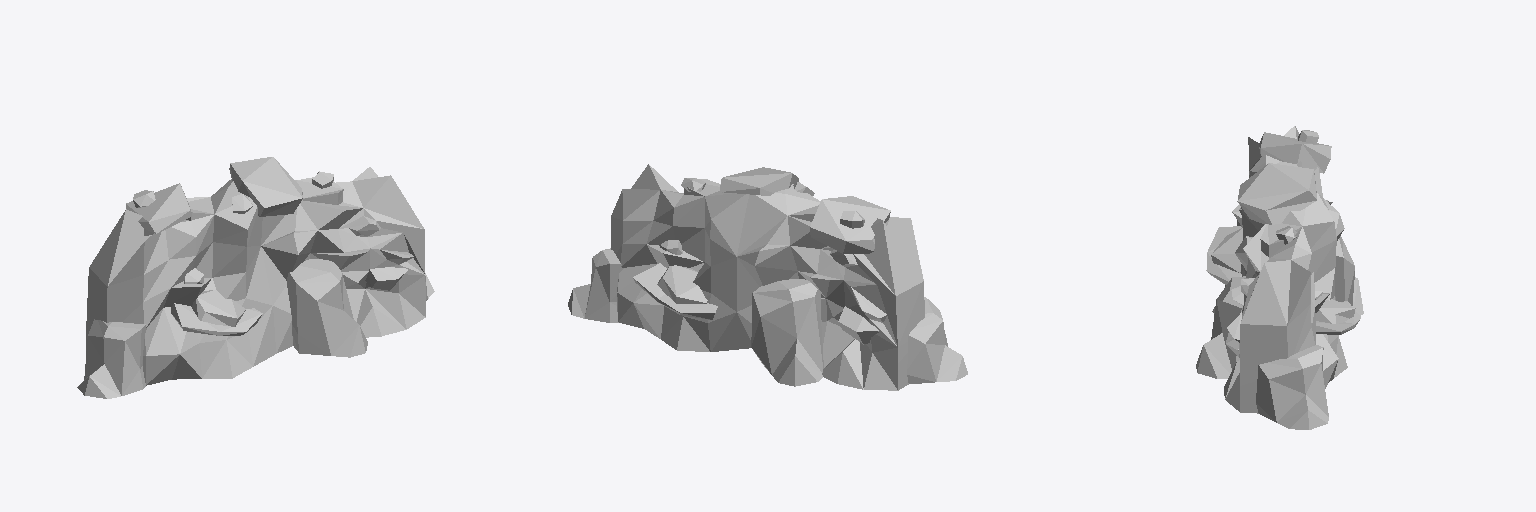
File: rubble_large.obj
3 renders of one model, left to right at view 1: azimuth 30°, elevation 25°; view 2: azimuth 150°, elevation 25°; view 3: azimuth 270°, elevation 25°, orthographic.
Parts seen in each view (by area): view 1: rubble_large; view 2: rubble_large; view 3: rubble_large.
Part boxes in pixels (x1,y1,x2,y2): rubble_large: (77, 157, 434, 398); rubble_large: (568, 164, 967, 390); rubble_large: (1196, 126, 1363, 429).
Bounding box in the file's own units: 8.13 × 3.5 × 3.18.